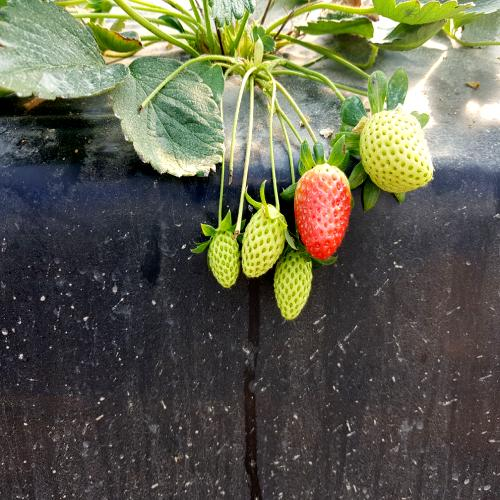ripe: (295, 159, 354, 265)
